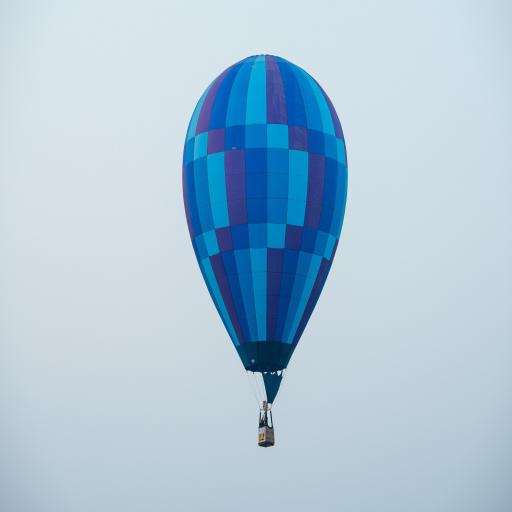hot air ballon: (180, 43, 350, 449)
